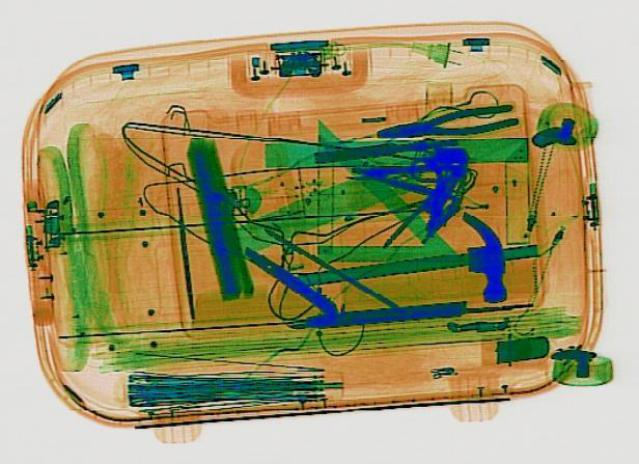Pliers: (368, 100, 519, 145)
